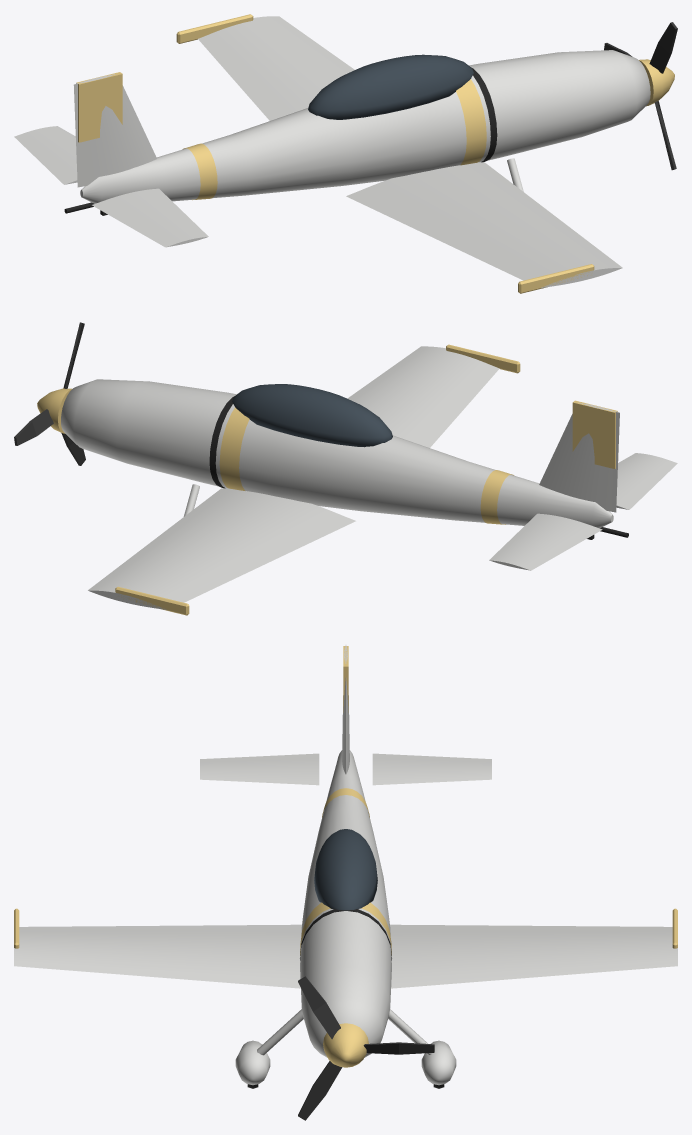
File: aereo.glb
3 renders of one model, top to bottom at view 1: azimuth 30°, elevation 25°; view 2: azimuth 150°, elevation 25°; view 3: azimuth 270°, elevation 25°, orthographic. The views are drawn at different scales.
Parts seen in each view (by area): view 1: Aereo, Elica; view 2: Aereo, Elica; view 3: Aereo, Elica.
Part boxes in pixels (<box>): Aereo: <box>14,14,674,293</box>; Elica: <box>604,22,677,170</box>; Aereo: <box>37,344,677,615</box>; Elica: <box>14,322,85,465</box>; Aereo: <box>14,645,677,1088</box>; Elica: <box>298,976,434,1120</box>.
Bounding box in the file's own units: 7.67 × 3.12 × 7.5.
